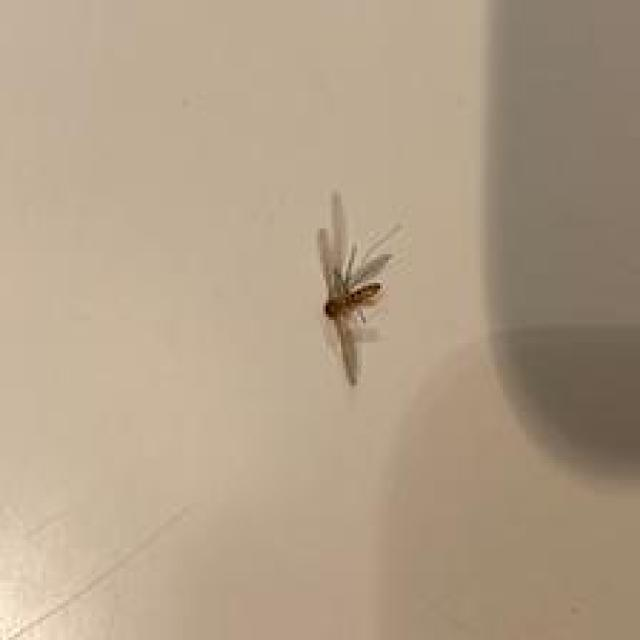Culex: (316, 188, 404, 386)
